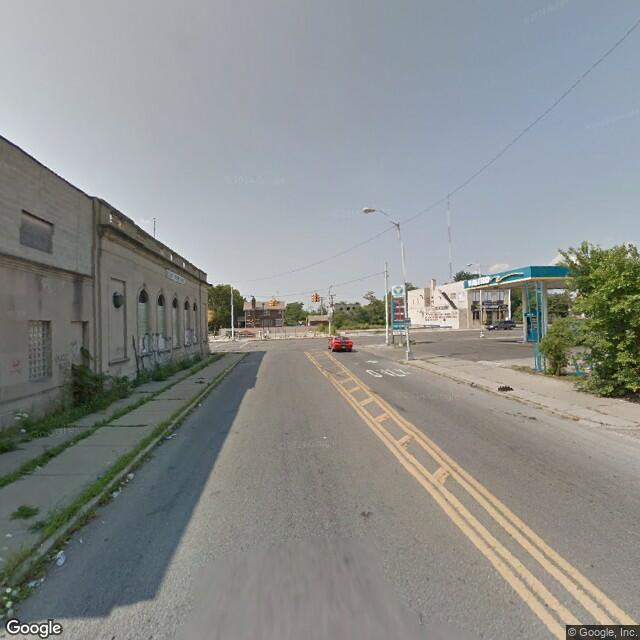litter: (54, 550, 67, 567), (27, 578, 41, 590), (114, 486, 124, 500), (126, 471, 136, 481), (167, 429, 176, 440), (196, 399, 205, 409)
